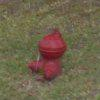Hydrant: (26, 25, 67, 92)
